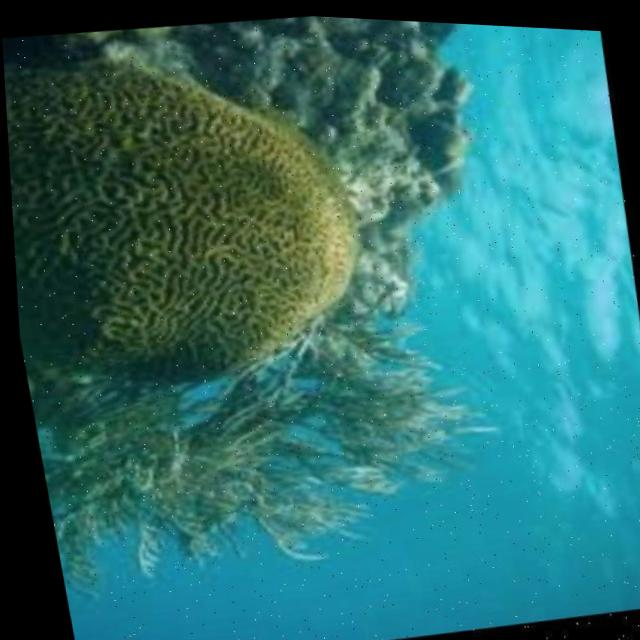Healthy Coral: (0, 0, 430, 443)
